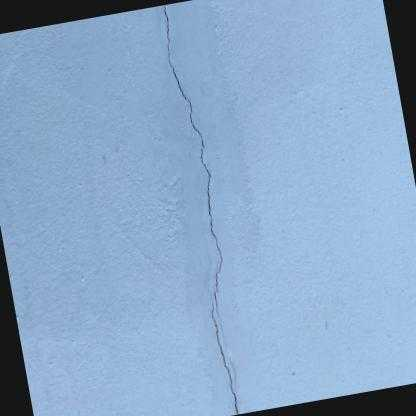crack: (162, 4, 226, 340), (213, 321, 239, 414)
